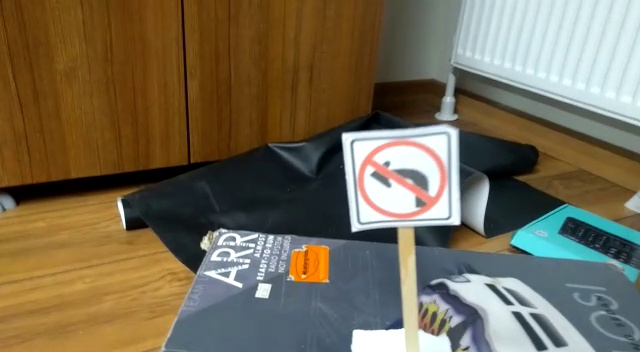sola_donulmez: (356, 134, 448, 226)
